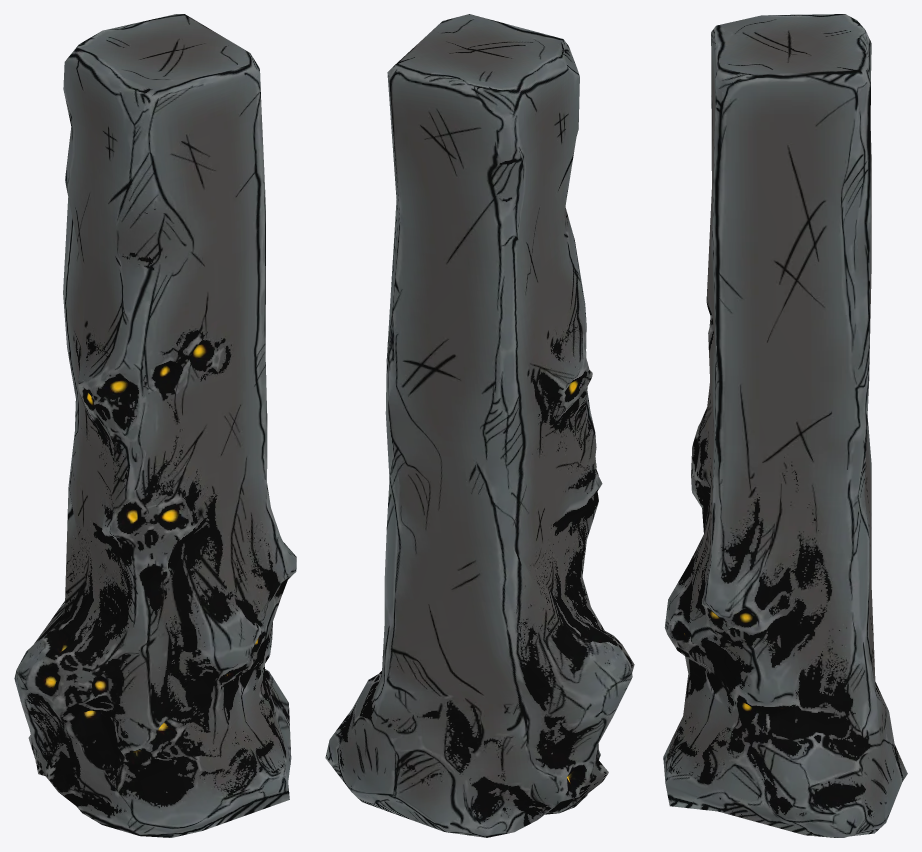
Rendered from PRP_StandingStone.glb.
The picture shows the model from 3 angles, left to right: view 1: azimuth 30°, elevation 25°; view 2: azimuth 150°, elevation 25°; view 3: azimuth 270°, elevation 25°; orthographic projection.
Parts seen in each view (by area): view 1: Rock_LOD0_m_Rock_0; view 2: Rock_LOD0_m_Rock_0; view 3: Rock_LOD0_m_Rock_0.
Part boxes in pixels (x1,y1,x2,y2): Rock_LOD0_m_Rock_0: (14, 14, 296, 837); Rock_LOD0_m_Rock_0: (325, 14, 634, 837); Rock_LOD0_m_Rock_0: (663, 14, 907, 837).
Bounding box in the file's own units: 0.0403 × 0.103 × 0.0304.
1 material, 1 textured.
